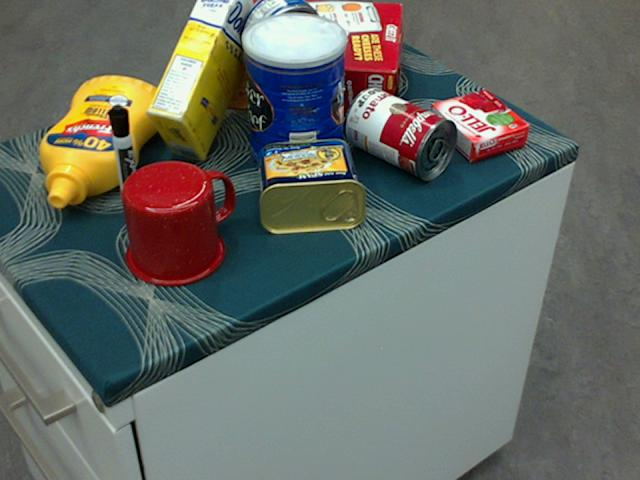cracker_box: (204, 0, 400, 118)
gelatin_box: (428, 90, 528, 160)
large_marker: (106, 105, 143, 217)
master_chef_can: (242, 12, 346, 181)
mug: (122, 159, 235, 285)
mustard_bottle: (38, 76, 164, 207)
potted_meat_can: (255, 136, 366, 235)
sugar_box: (146, 0, 261, 162)
tomato_soup_can: (344, 86, 457, 180)
tuna_fish_can: (239, 0, 321, 72)
